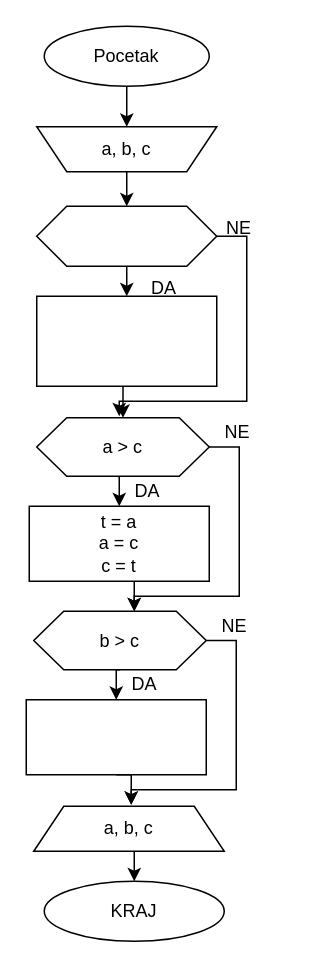
The diagram is 311 pixels wide and 968 high, and some of its shapes have lost their labels. Each missing label, with the box of its shape:
a > b: (35, 205, 217, 266)
t = a a = b b = t: (35, 295, 217, 386)
t = b b = c c = t: (25, 698, 206, 775)
